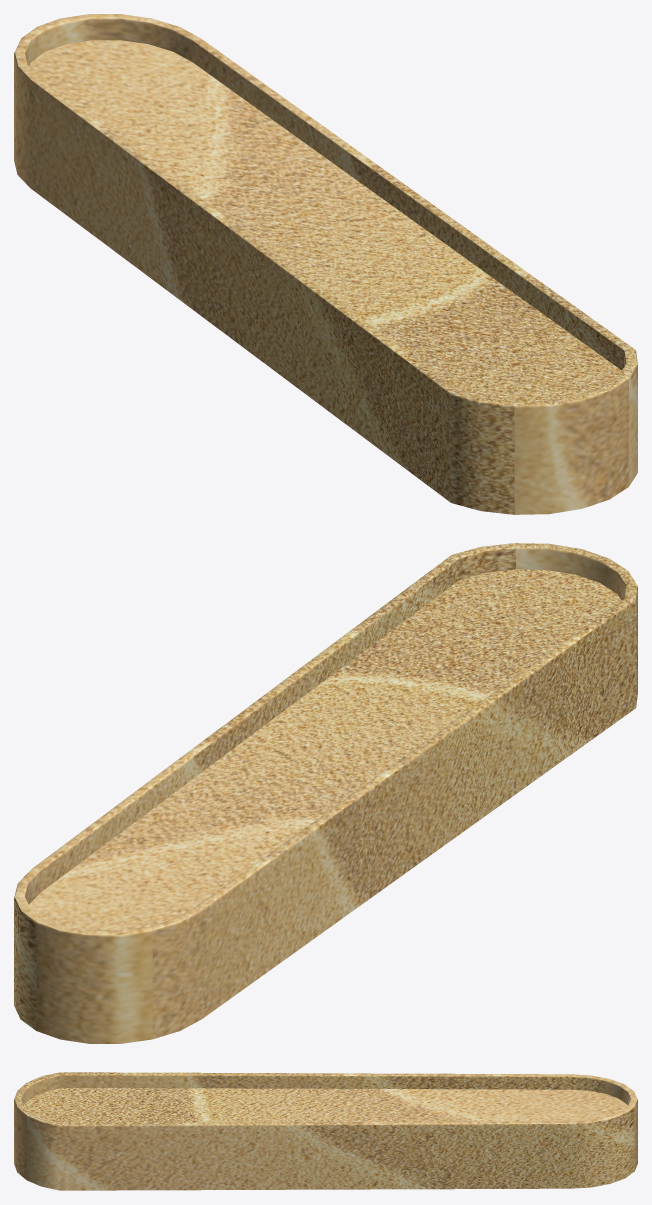
Rendered from ManaBoard.fbx.
3 renders of one model, top to bottom at view 1: azimuth 30°, elevation 25°; view 2: azimuth 150°, elevation 25°; view 3: azimuth 270°, elevation 25°, orthographic. The views are drawn at different scales.
Parts seen in each view (by area): view 1: pCylinder1; view 2: pCylinder1; view 3: pCylinder1.
Boxes of the visible parts, x1,y1,x2,y2 form: pCylinder1: [14, 14, 637, 514]; pCylinder1: [14, 543, 637, 1043]; pCylinder1: [14, 1072, 637, 1190].
Size of the model in its own units: 2.04 by 1.15 by 9.98.
1 material, 1 textured.
